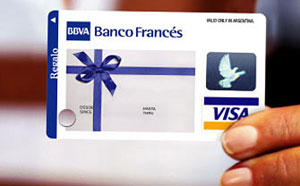tarjeta: (46, 10, 266, 142)
